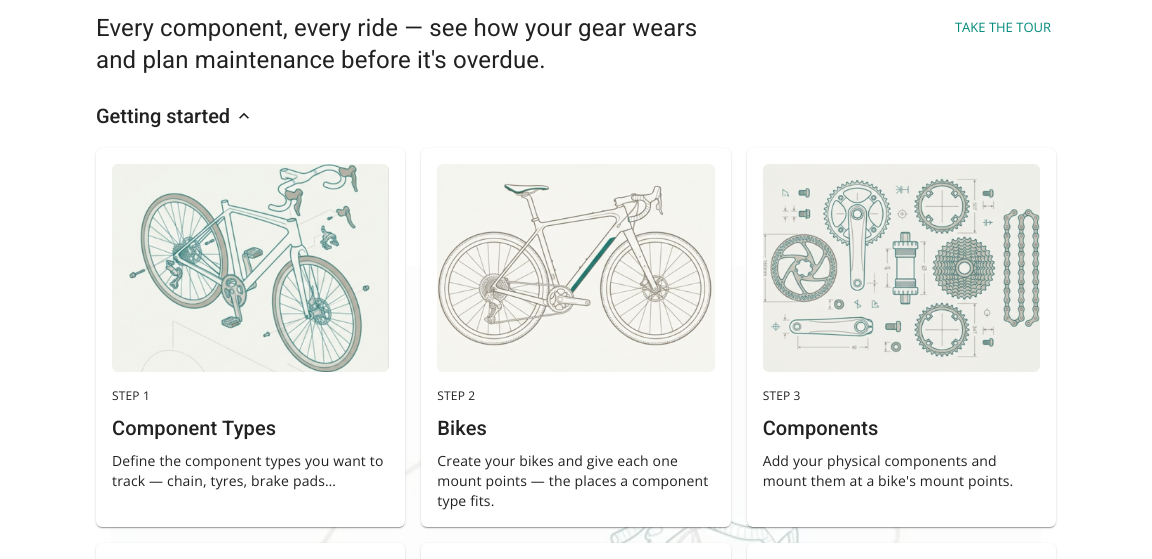
Index › folds the getting-started cards away when the header is toggled
Click the button "Getting started". click: coordinates (175, 116)
box: [96, 100, 254, 132]
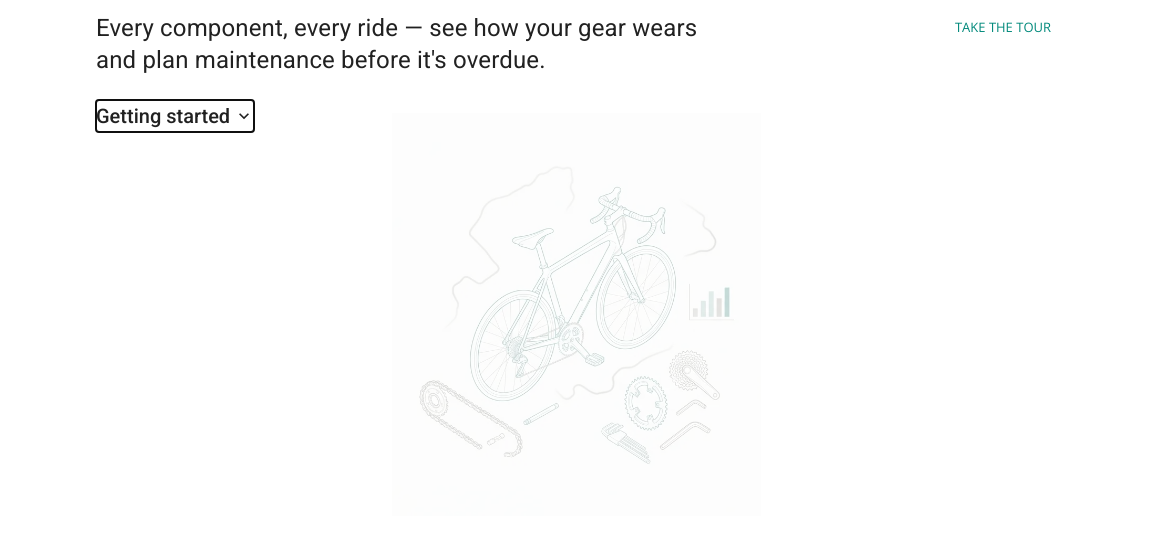
Expected: the button "Getting started" is collapsed, [96, 100, 254, 132]
